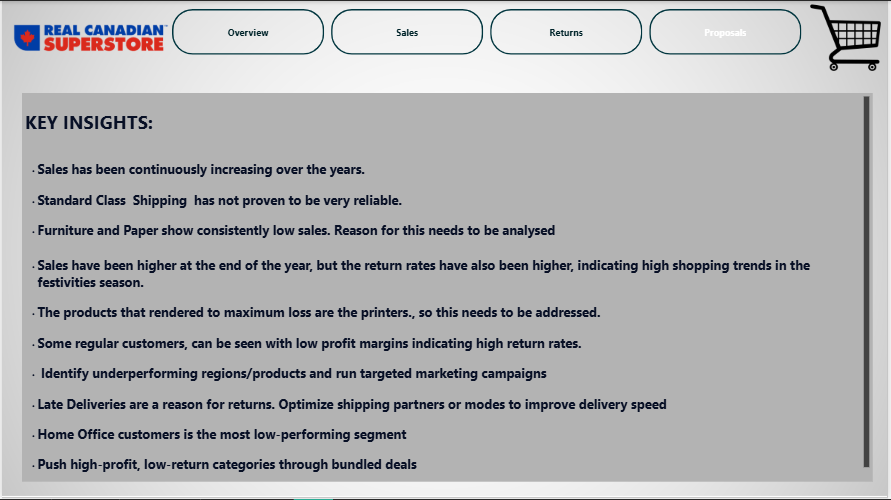

Layout of this report page (visuals, bound fields, positions):
{"tool":"powerbi","page":{"name":"Proposals","canvas":[1280,720],"ordinal":3},"visuals":[{"type":"pageNavigator","box":[245.8,11.6,913.7,66.5],"z":0},{"type":"image","box":[11.6,11.6,234.2,83.9],"z":1000},{"type":"image","box":[1159.5,0,120,105.5],"z":2000},{"type":"shape","box":[28.9,133,1230.4,562.4],"z":3000},{"type":"textbox","box":[28.9,133,1230.4,587],"z":4000}]}

Visuals, with their boxes in screenshot pixels (x1, y1, x2, y2), scaled from the page's 1280x720 canvas onto the 891x500 screenshot:
pageNavigator: [x1=171, y1=8, x2=807, y2=54]
image: [x1=8, y1=8, x2=171, y2=66]
image: [x1=807, y1=0, x2=890, y2=73]
shape: [x1=20, y1=92, x2=877, y2=483]
textbox: [x1=20, y1=92, x2=877, y2=499]
